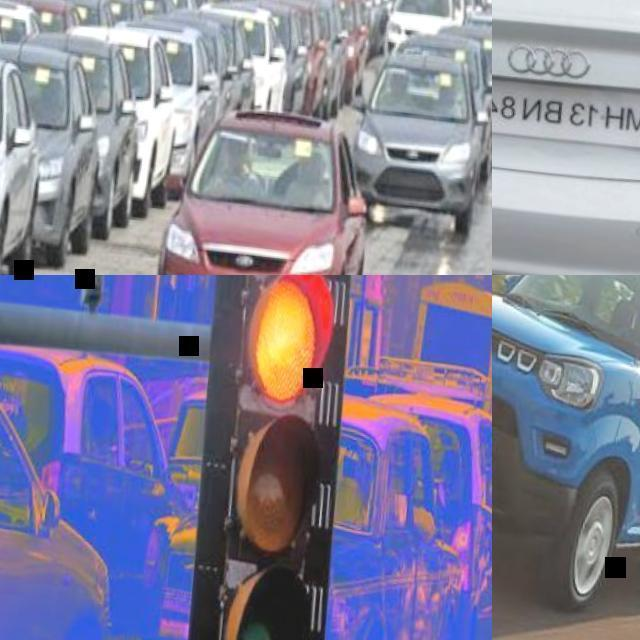car: (160, 110, 367, 327), (347, 0, 492, 231), (0, 22, 138, 263)
